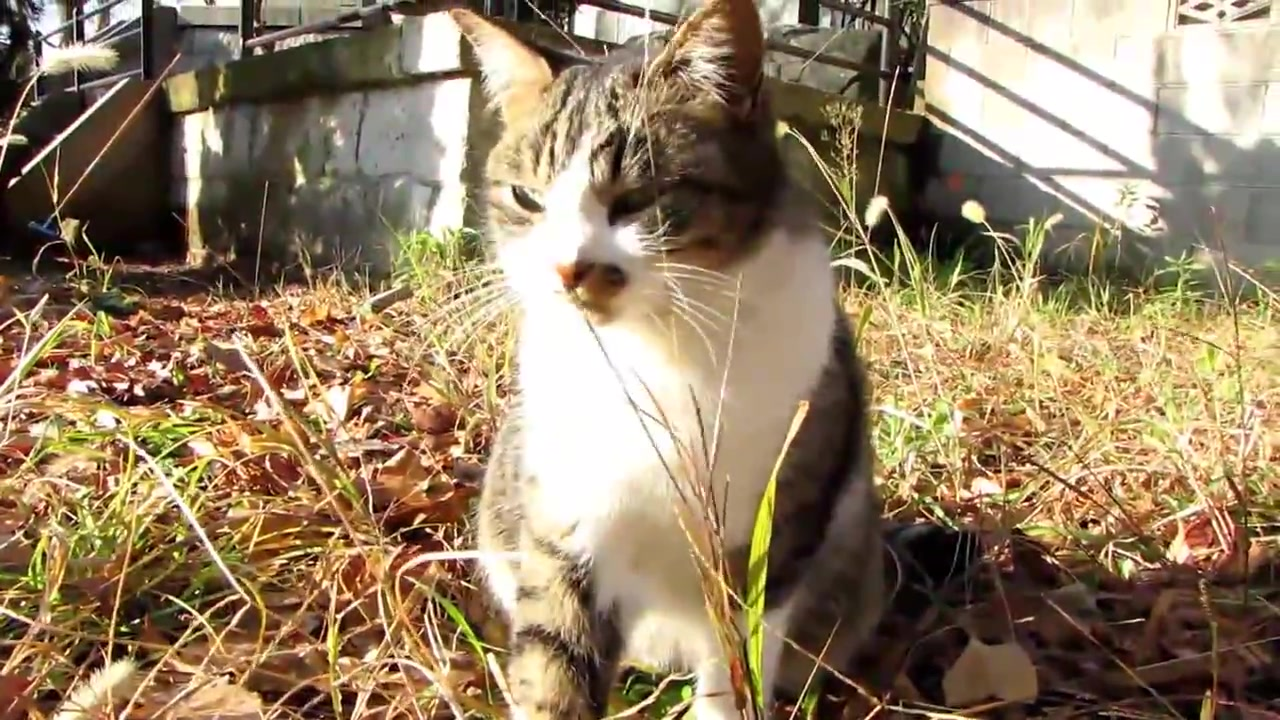cat: (448, 1, 947, 720)
